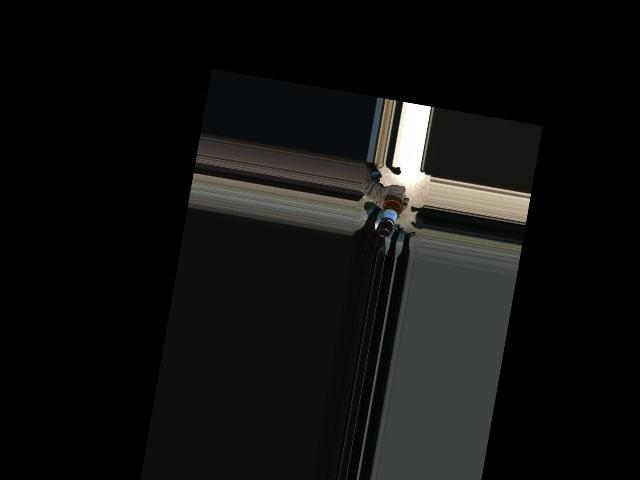beer: (377, 186, 407, 239)
